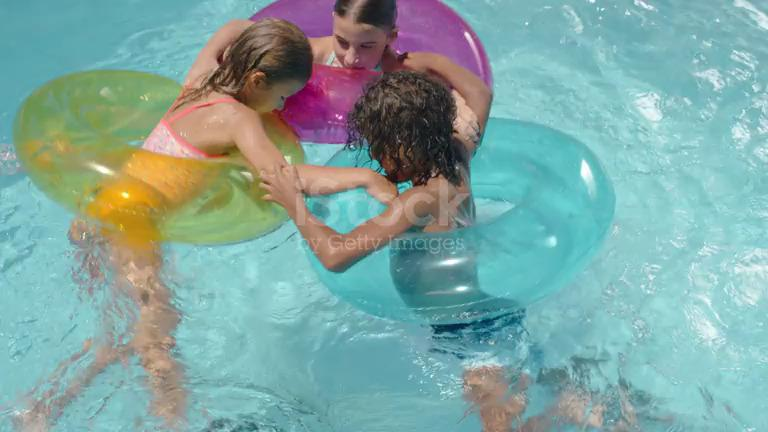Swimming: (71, 5, 666, 369)
